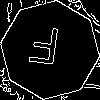F: (25, 25, 62, 75)
